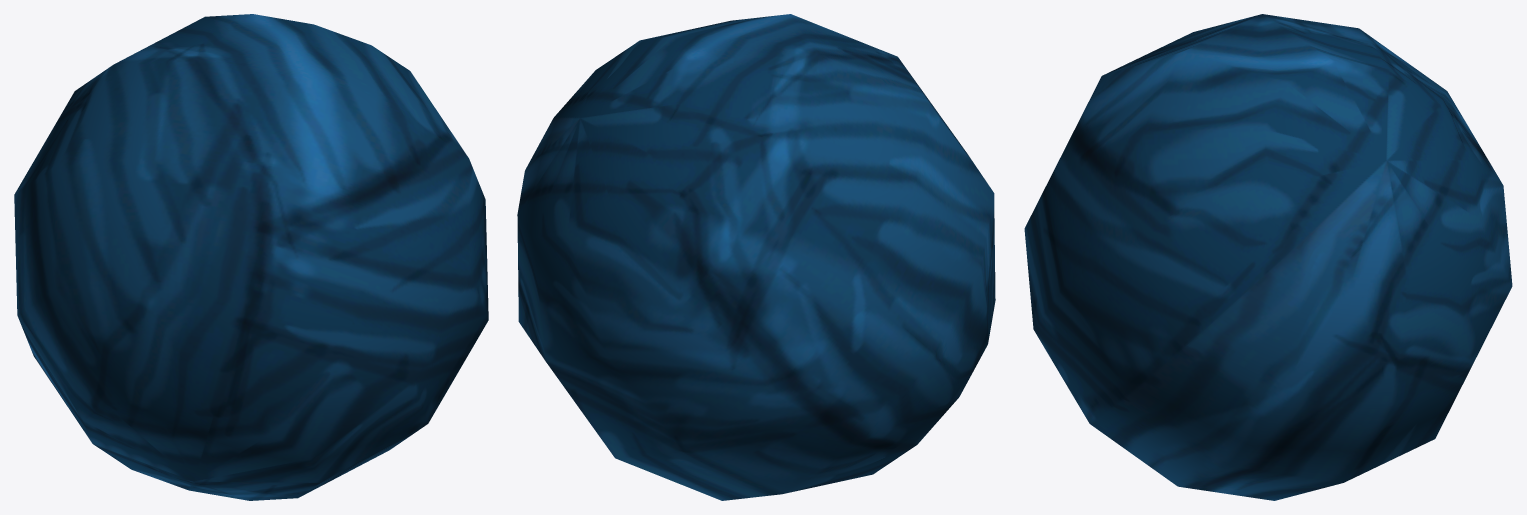
File: GeneralStore_Yarn.obj
3 renders of one model, left to right at view 1: azimuth 30°, elevation 25°; view 2: azimuth 150°, elevation 25°; view 3: azimuth 270°, elevation 25°, orthographic.
Parts seen in each view (by area): view 1: Model_GeneralStore_Yarn; view 2: Model_GeneralStore_Yarn; view 3: Model_GeneralStore_Yarn.
Boxes of the visible parts, bbox=[...] form: Model_GeneralStore_Yarn: bbox=[14, 14, 488, 500]; Model_GeneralStore_Yarn: bbox=[517, 14, 995, 500]; Model_GeneralStore_Yarn: bbox=[1024, 14, 1512, 500].
Bounding box in the file's own units: 0.3021 × 0.2951 × 0.3034.
Materials: 1 (1 with a texture image).
